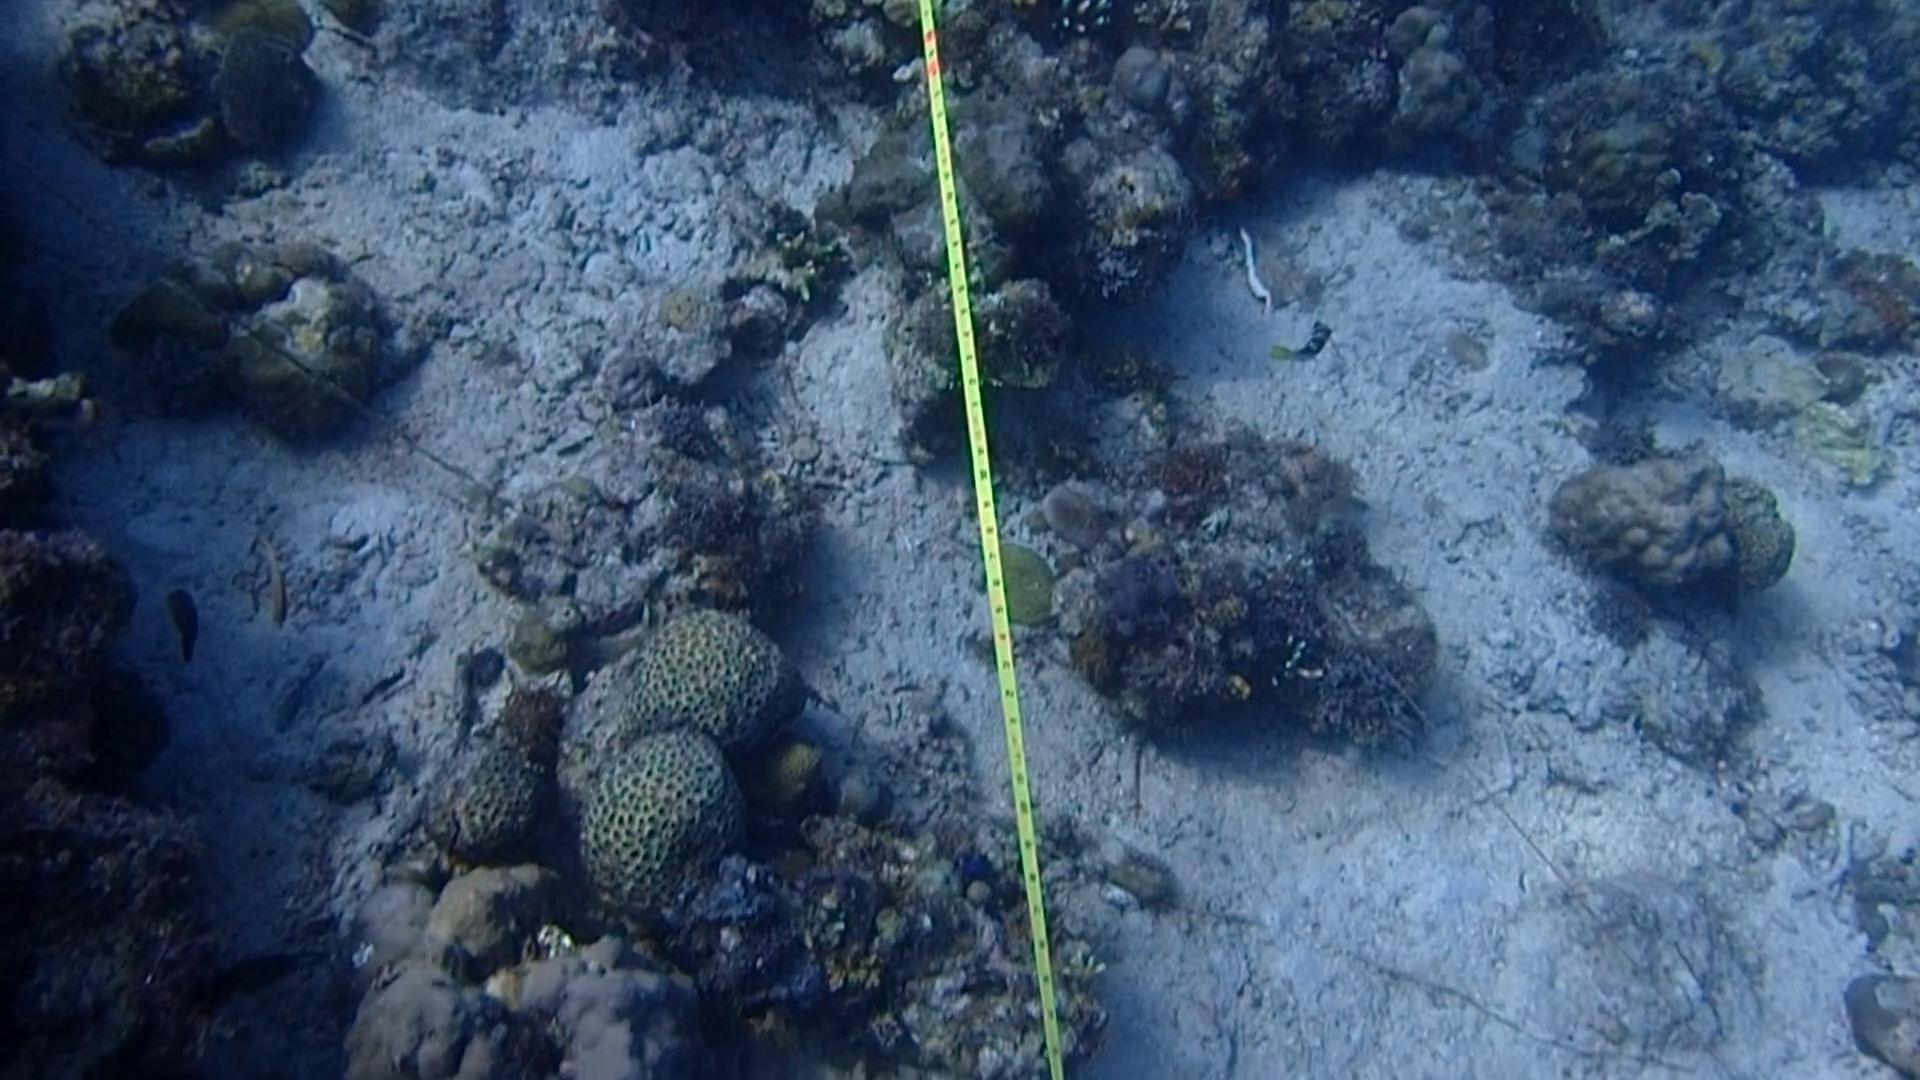Striped Fish: (1263, 318, 1333, 368)
